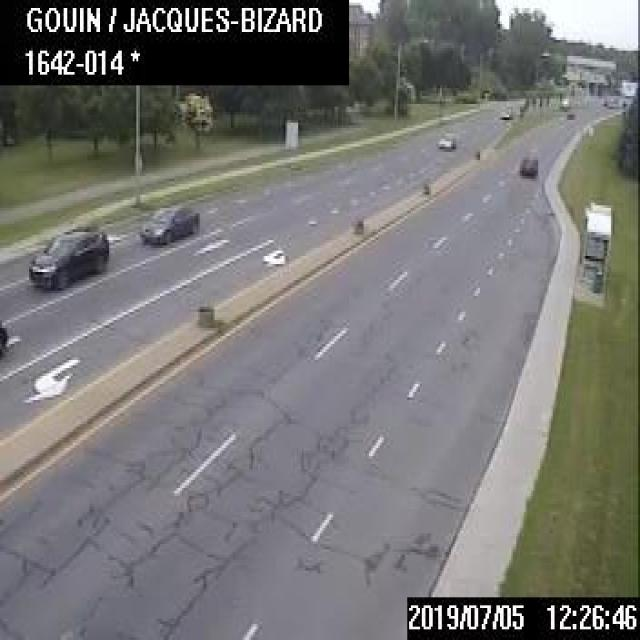vehicle: (27, 225, 108, 289), (139, 203, 198, 243), (519, 155, 536, 174), (436, 132, 454, 147), (0, 317, 5, 357), (497, 105, 510, 117), (565, 110, 574, 118)
